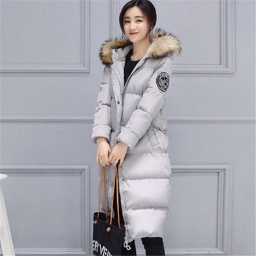face: (116, 1, 168, 56)
